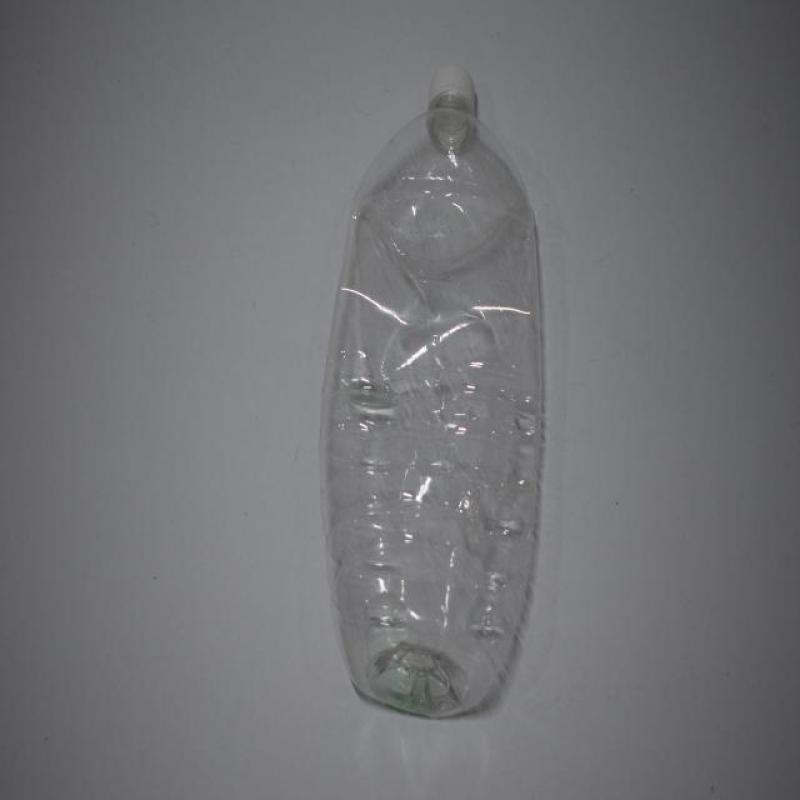botella: (322, 64, 548, 727)
